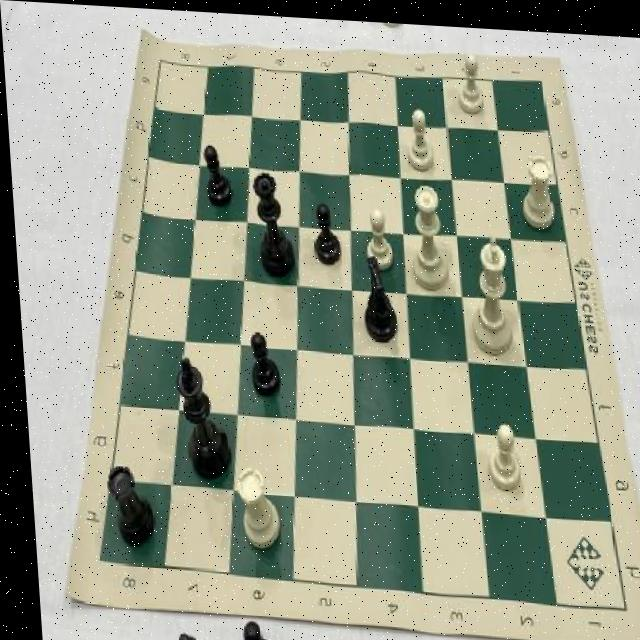black-bishop: (170, 352, 224, 480)
black-king: (352, 250, 397, 341)
black-knight: (241, 326, 277, 392), (199, 140, 233, 206), (309, 199, 341, 265)
black-pawn: (246, 164, 294, 276)
black-queen: (98, 459, 147, 548)
white-bishop: (463, 226, 513, 353)
white-knight: (480, 412, 520, 489), (402, 100, 437, 170), (452, 46, 485, 113), (359, 202, 392, 268)
white-pawn: (400, 176, 448, 287)
white-queen: (229, 460, 278, 549), (514, 144, 558, 226)
